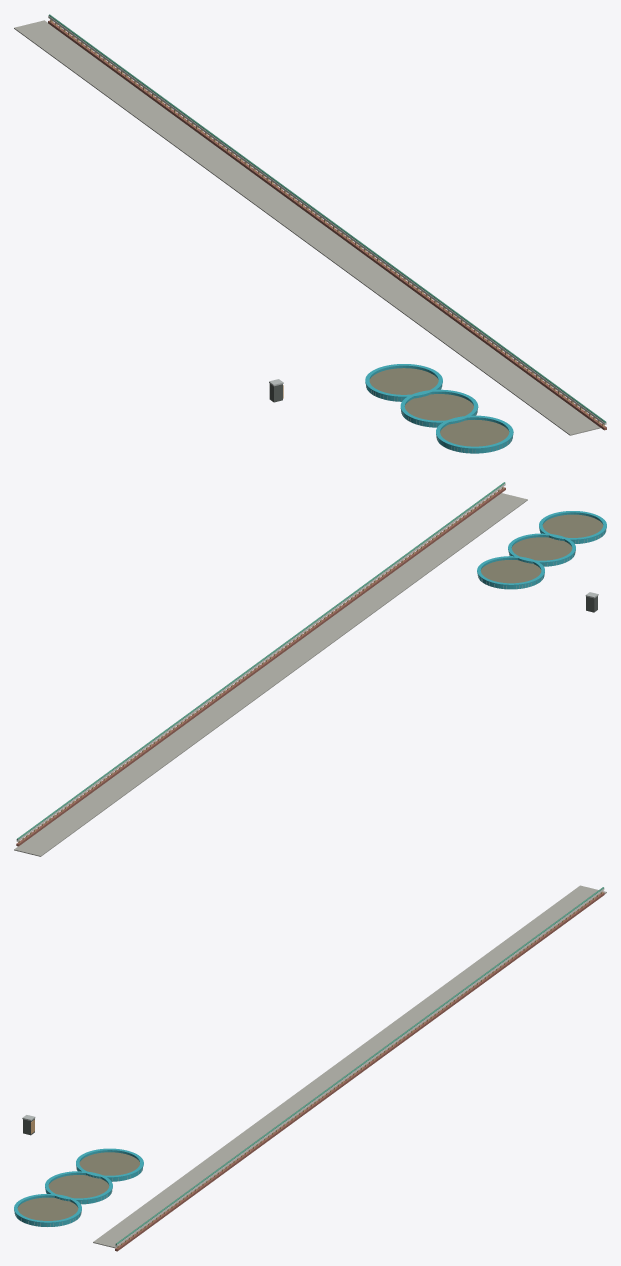
File: dining-landscape.glb
3 renders of one model, top to bottom at view 1: azimuth 30°, elevation 25°; view 2: azimuth 150°, elevation 25°; view 3: azimuth 330°, elevation 25°, orthographic. The views are drawn at different scales.
Parts seen in each view (by area): view 1: dining-landscape; view 2: dining-landscape; view 3: dining-landscape.
Part boxes in pixels (<box>): dining-landscape: <box>14,14,606,453</box>; dining-landscape: <box>14,482,606,856</box>; dining-landscape: <box>14,885,606,1251</box>.
Bounding box in the file's own units: 14.44 × 1.12 × 63.5.
